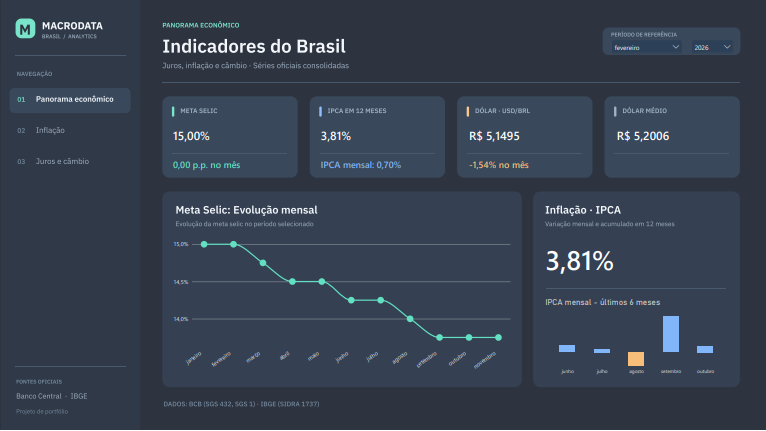

The dashboard page shown, as its layout file describes it:
{"tool":"powerbi","page":{"name":"Panorama econômico","canvas":[1920,1080],"ordinal":0},"visuals":[{"type":"cardVisual","fields":{"Data":["Medidas.Meta Selic (%)"]},"box":[415.7,292.3,312.4,95.7],"z":0},{"type":"cardVisual","fields":{"Data":["Medidas.IPCA Acumulado 12 Meses (%)"]},"box":[786.1,292.3,312.4,95.7],"z":1000},{"type":"cardVisual","fields":{"Data":["Medidas.Cotação Dólar (R$)"]},"box":[1156.5,292.3,312.4,95.7],"z":2000},{"type":"cardVisual","fields":{"Data":["Medidas.Cotação Média Mensal (R$)"]},"box":[1526.9,292.3,312.4,95.7],"z":3000},{"type":"cardVisual","fields":{"Data":["Medidas.Card Texto Selic"]},"box":[415.7,365.4,312.4,95.7],"z":4000},{"type":"cardVisual","fields":{"Data":["Medidas.Card Texto IPCA"]},"box":[786.1,365.4,312.4,95.7],"z":5000},{"type":"cardVisual","fields":{"Data":["Medidas.Card Texto Dólar"]},"box":[1156.5,365.4,312.4,95.7],"z":6000},{"type":"slicer","fields":{"Values":["Dim_Calendario.MesNome"]},"box":[1526.7,97.8,183.3,50],"z":7000},{"type":"slicer","fields":{"Values":["Dim_Calendario.Ano"]},"box":[1726.7,97.8,112.2,50],"z":8000},{"type":"lineChart","fields":{"Category":["Dim_Calendario.MesNome"],"Y":["Medidas.Meta Selic (%)"]},"box":[416,580,876,380],"z":9000},{"type":"cardVisual","fields":{"Data":["Medidas.IPCA Acumulado 12 Meses (%)"]},"box":[1348,580,430,138],"z":10000},{"type":"lineClusteredColumnComboChart","title":"IPCA mensal - últimos 6 meses","fields":{"Category":["Dim_Calendario.MesNome"],"Y":["Medidas.IPCA Mensal (%)"]},"box":[1348,732,490,228],"z":11000},{"type":"actionButton","box":[27.6,299.8,295.5,53.1],"z":12000},{"type":"actionButton","box":[27.6,378.4,295.5,53.1],"z":13000}]}

Visuals, with their boxes in screenshot pixels (x1, y1, x2, y2), scaled from the page's 1920x1080 canvas onto the 766x431 screenshot:
cardVisual - Medidas.Meta Selic (%): bbox=[166, 117, 290, 155]
cardVisual - Medidas.IPCA Acumulado 12 Meses (%): bbox=[314, 117, 438, 155]
cardVisual - Medidas.Cotação Dólar (R$): bbox=[461, 117, 586, 155]
cardVisual - Medidas.Cotação Média Mensal (R$): bbox=[609, 117, 734, 155]
cardVisual - Medidas.Card Texto Selic: bbox=[166, 146, 290, 184]
cardVisual - Medidas.Card Texto IPCA: bbox=[314, 146, 438, 184]
cardVisual - Medidas.Card Texto Dólar: bbox=[461, 146, 586, 184]
slicer - Dim_Calendario.MesNome: bbox=[609, 39, 682, 59]
slicer - Dim_Calendario.Ano: bbox=[689, 39, 734, 59]
lineChart - Dim_Calendario.MesNome x Medidas.Meta Selic (%): bbox=[166, 231, 515, 383]
cardVisual - Medidas.IPCA Acumulado 12 Meses (%): bbox=[538, 231, 709, 287]
"IPCA mensal - últimos 6 meses" lineClusteredColumnComboChart: bbox=[538, 292, 733, 383]
actionButton: bbox=[11, 120, 129, 141]
actionButton: bbox=[11, 151, 129, 172]
